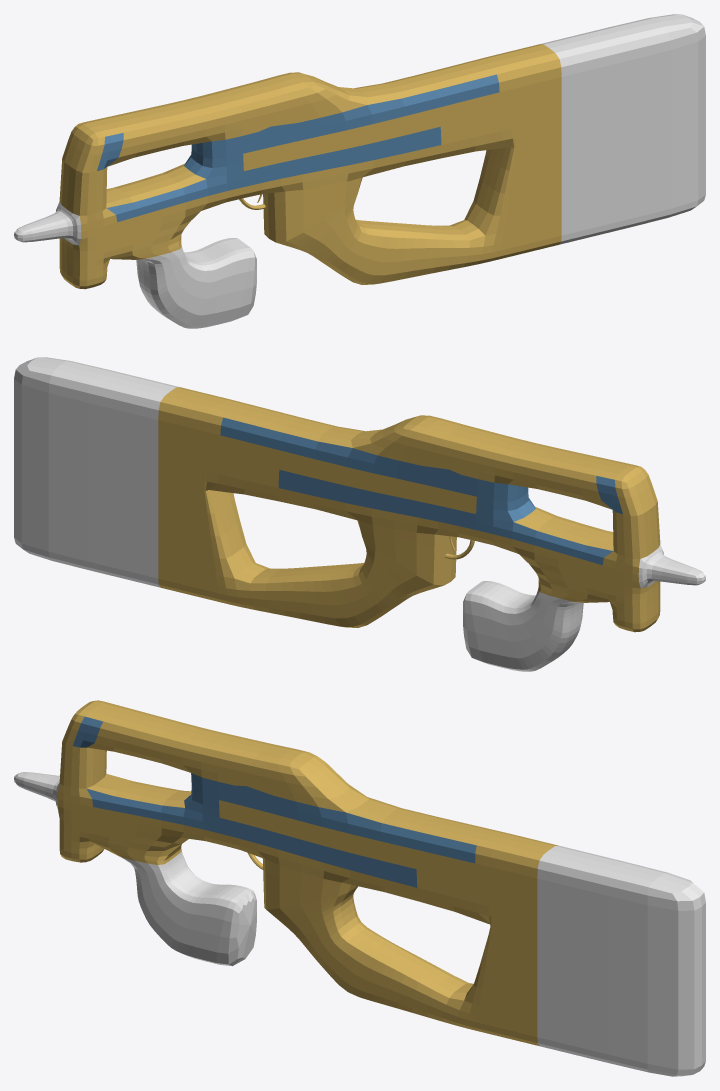
File: MachinePistol2.fbx
3 views of the same model, one above another, from view 1: azimuth 30°, elevation 25°; view 2: azimuth 150°, elevation 25°; view 3: azimuth 330°, elevation 25° (orthographic).
Visible parts, largest first — view 1: Cube.022; view 2: Cube.022; view 3: Cube.022.
Part boxes in pixels (x1=…): Cube.022: x1=14, y1=14, x2=705, y2=328; Cube.022: x1=14, y1=357, x2=705, y2=671; Cube.022: x1=14, y1=700, x2=705, y2=1076.
Bounding box in the file's own units: 606 × 189 × 36.98.
